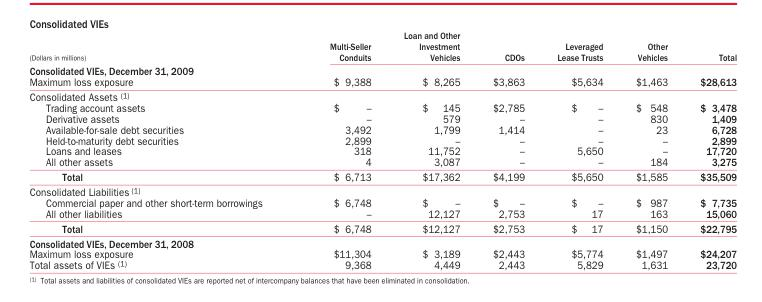table: (28, 29, 736, 270)
table column: (28, 29, 295, 270), (295, 29, 386, 270), (386, 29, 475, 270), (540, 29, 618, 270), (475, 29, 540, 270), (618, 29, 683, 270), (683, 29, 736, 270)
table column header: (28, 29, 736, 63)
table projected row header: (28, 63, 736, 76), (28, 88, 736, 101), (28, 183, 736, 196), (28, 235, 736, 248)
table row: (28, 29, 736, 63), (28, 220, 736, 235), (28, 169, 736, 183), (28, 63, 736, 76), (28, 88, 736, 101), (28, 156, 736, 169), (28, 183, 736, 196), (28, 207, 736, 220), (28, 235, 736, 248), (28, 76, 736, 88), (28, 101, 736, 112), (28, 112, 736, 123), (28, 123, 736, 134), (28, 134, 736, 145), (28, 145, 736, 156), (28, 196, 736, 207), (28, 248, 736, 259), (28, 259, 736, 270)
